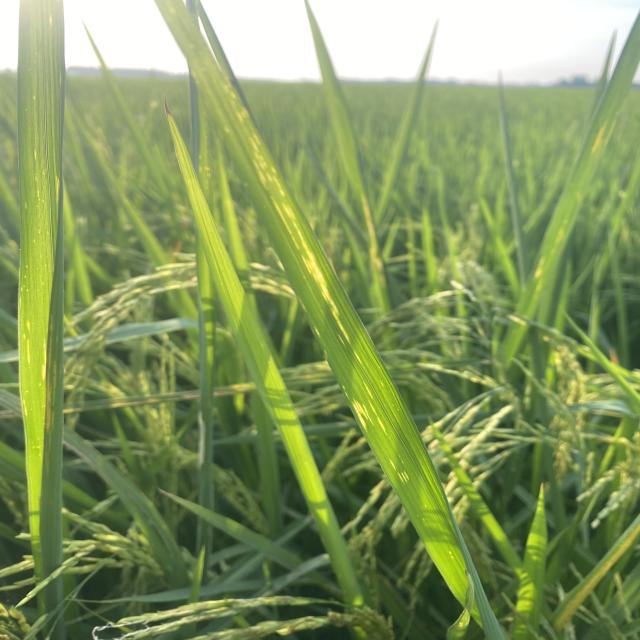Dom soc vi khuan: (281, 203, 351, 345), (351, 396, 374, 433), (368, 400, 387, 435), (363, 382, 373, 399)
